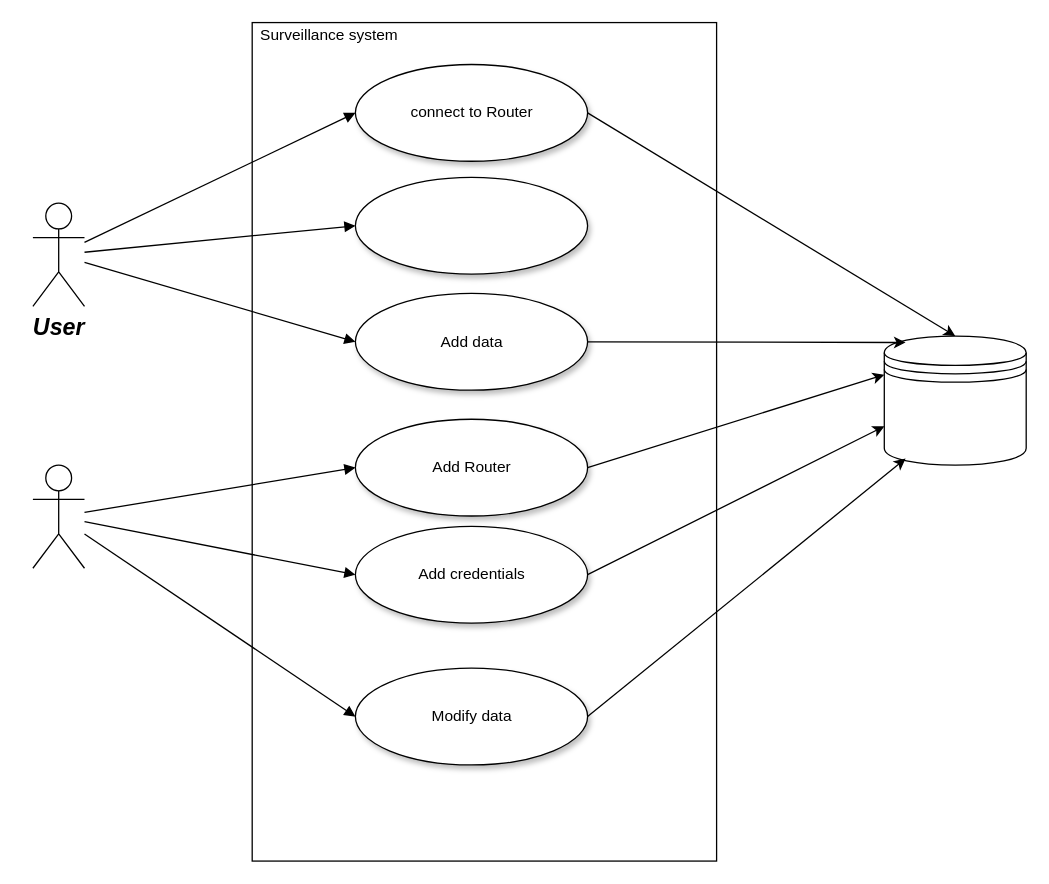
Image size: 1049x884. Some labels were removed from this diagram. The shapes that lost their labels are listed below. From the top down, each one's centre as x and y in pixels, then its label:
At point (472, 227): "Surf the internet".
At point (954, 400): "database".
At point (58, 516): "Admin".
